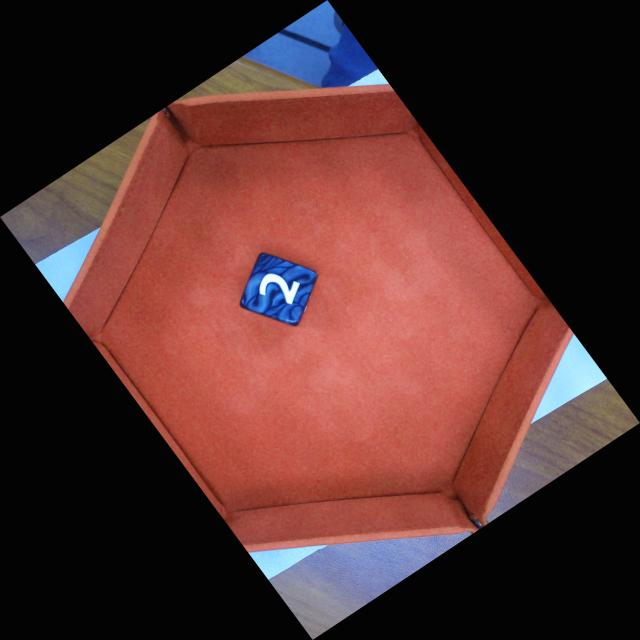dice: (236, 250, 320, 328)
